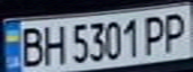0: (103, 17, 124, 61)
1: (121, 15, 142, 57)
3: (87, 19, 109, 62)
5: (66, 20, 90, 65)
B: (15, 24, 48, 69)
H: (36, 21, 69, 66)
P: (157, 9, 193, 54), (139, 11, 172, 56)
